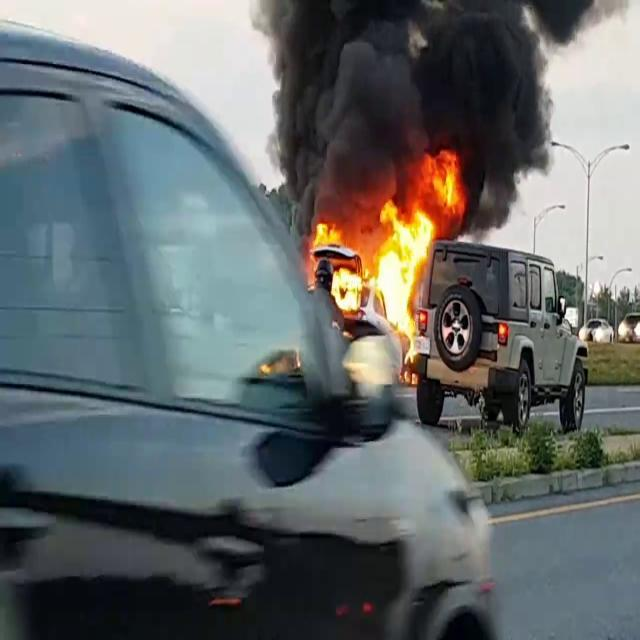Fire: (312, 154, 456, 356)
Smoke: (248, 0, 582, 212)
